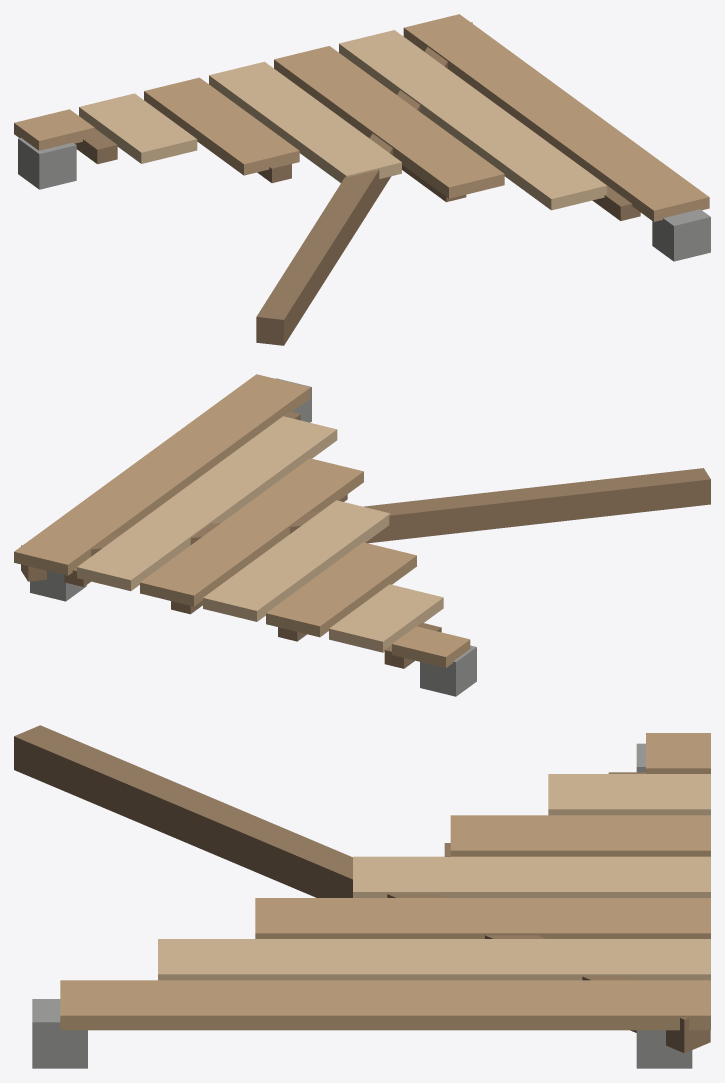
The model's file is triangle_foundation.glb.
3 renders of one model, top to bottom at view 1: azimuth 30°, elevation 25°; view 2: azimuth 150°, elevation 25°; view 3: azimuth 270°, elevation 25°, orthographic. The views are drawn at different scales.
Visible parts, largest first — view 1: triangle_foundation; view 2: triangle_foundation; view 3: triangle_foundation.
Boxes of the visible parts, x1,y1,x2,y2 form: triangle_foundation: (14,14,710,345); triangle_foundation: (14,374,710,696); triangle_foundation: (14,725,710,1068).
Size of the model in its own units: 3 by 0.28 by 3.
